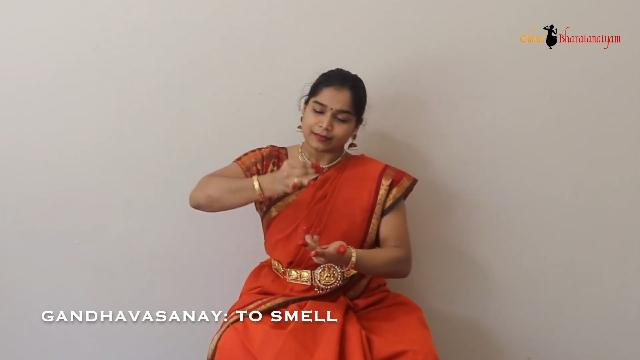katak: (290, 222, 368, 288)
